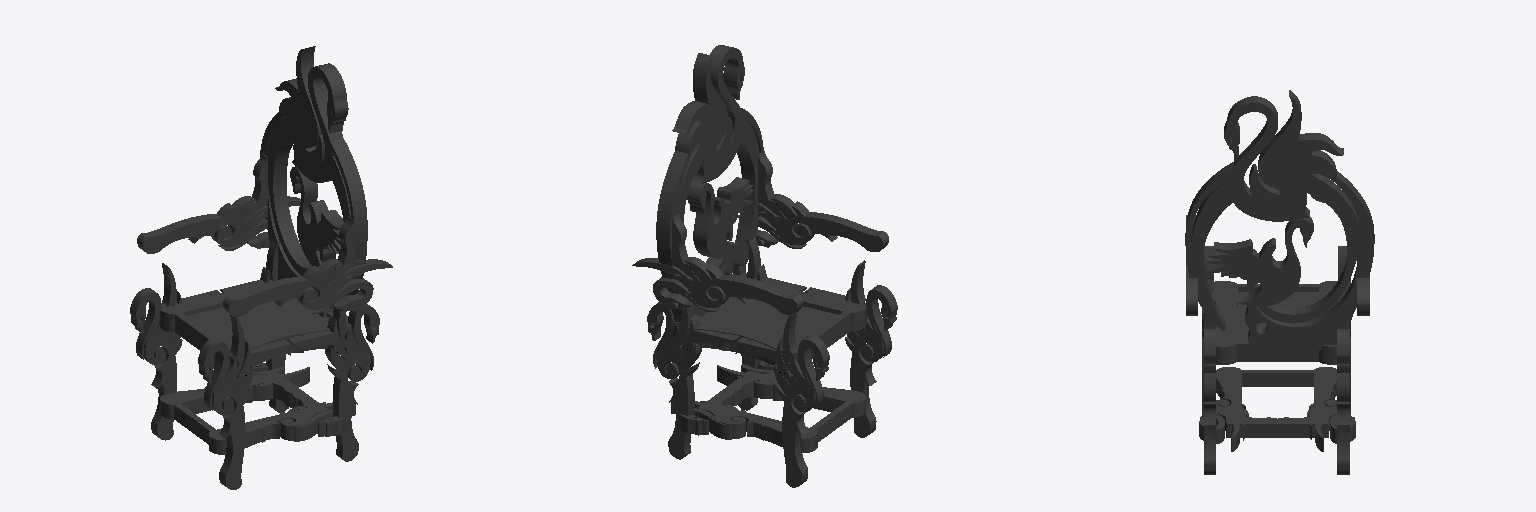
Rendered from DeadTree.obj.
The picture shows the model from 3 angles: view 1: azimuth 30°, elevation 25°; view 2: azimuth 150°, elevation 25°; view 3: azimuth 270°, elevation 25°; orthographic projection.
Bounding box in the file's own units: 6.61 × 13.26 × 5.95.